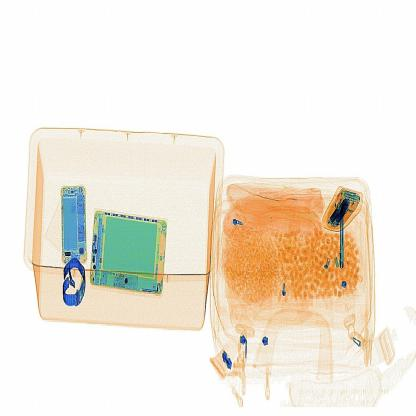pliers: (330, 190, 351, 276)
